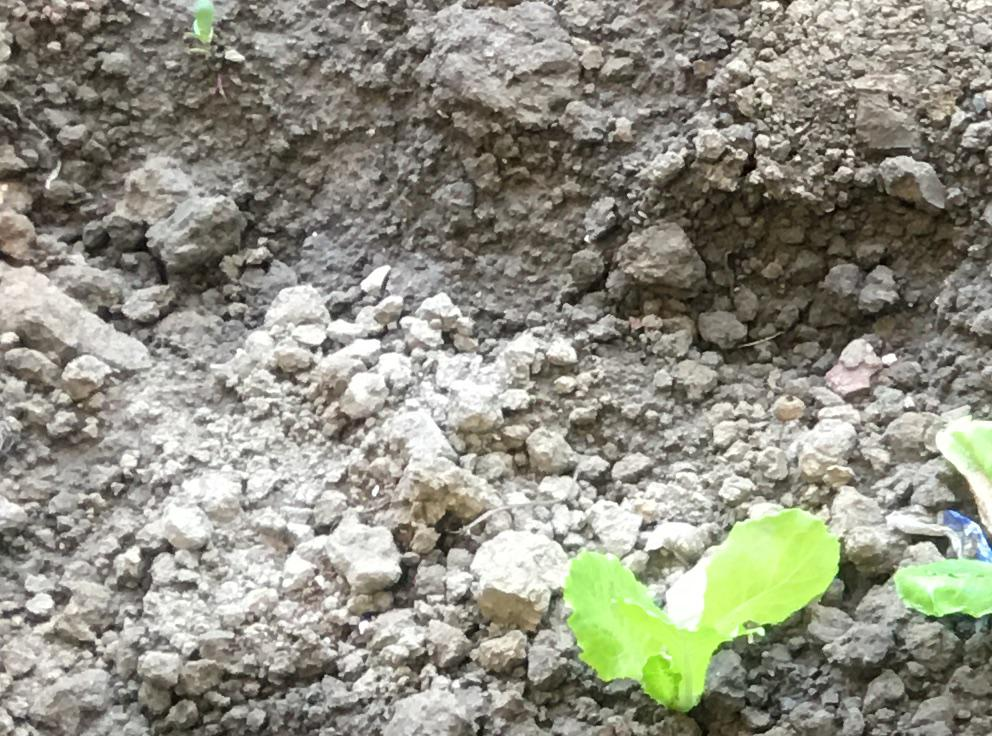block: (465, 526, 571, 628), (143, 194, 245, 272), (617, 217, 713, 296)
